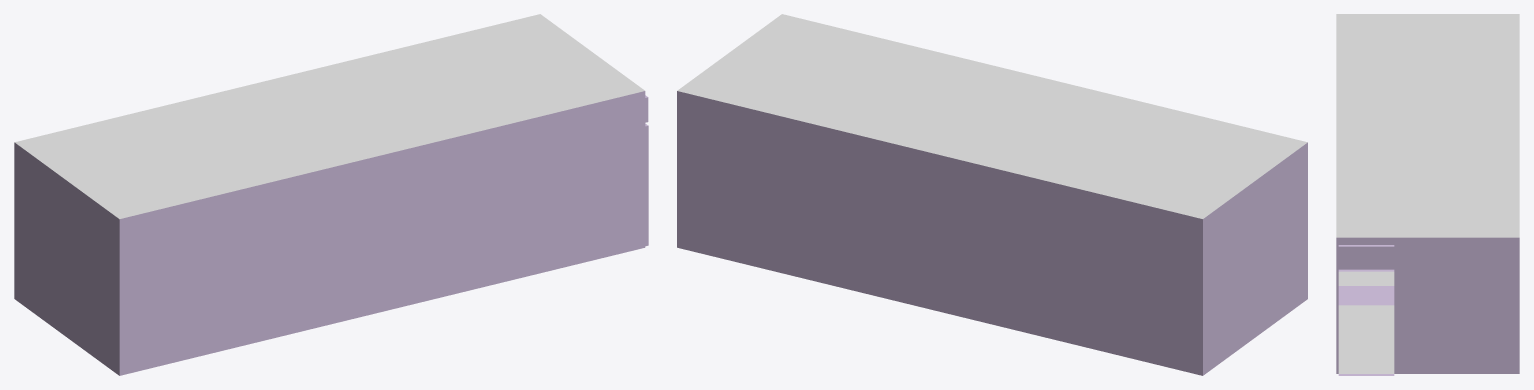
The model's file is tembokfix.fbx.
3 renders of one model, left to right at view 1: azimuth 30°, elevation 25°; view 2: azimuth 150°, elevation 25°; view 3: azimuth 270°, elevation 25°, orthographic. The views are drawn at different scales.
Visible parts, largest first — view 1: walls; view 2: walls; view 3: walls.
Part boxes in pixels (x1=…): walls: x1=14, y1=14, x2=648, y2=375; walls: x1=677, y1=14, x2=1307, y2=375; walls: x1=1336, y1=14, x2=1519, y2=375.
Bounding box in the file's own units: 4743 × 1340 × 1628.
